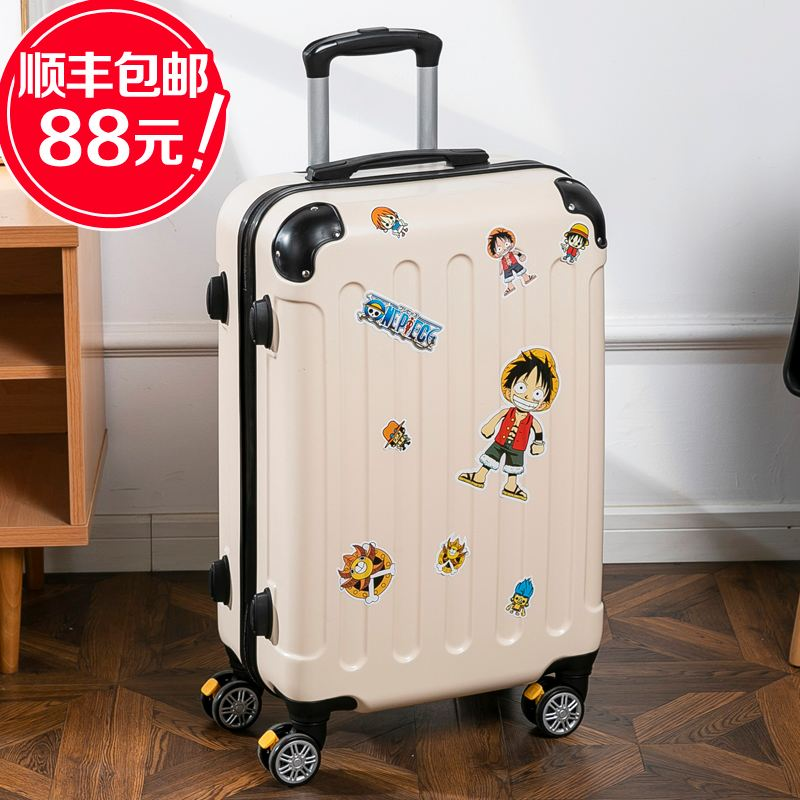box: (217, 158, 604, 711)
handle: (306, 147, 492, 182)
wheel: (257, 721, 321, 786), (521, 676, 586, 738), (200, 669, 262, 732)
